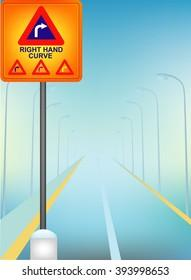Right Hand Curve: (12, 3, 63, 51)
